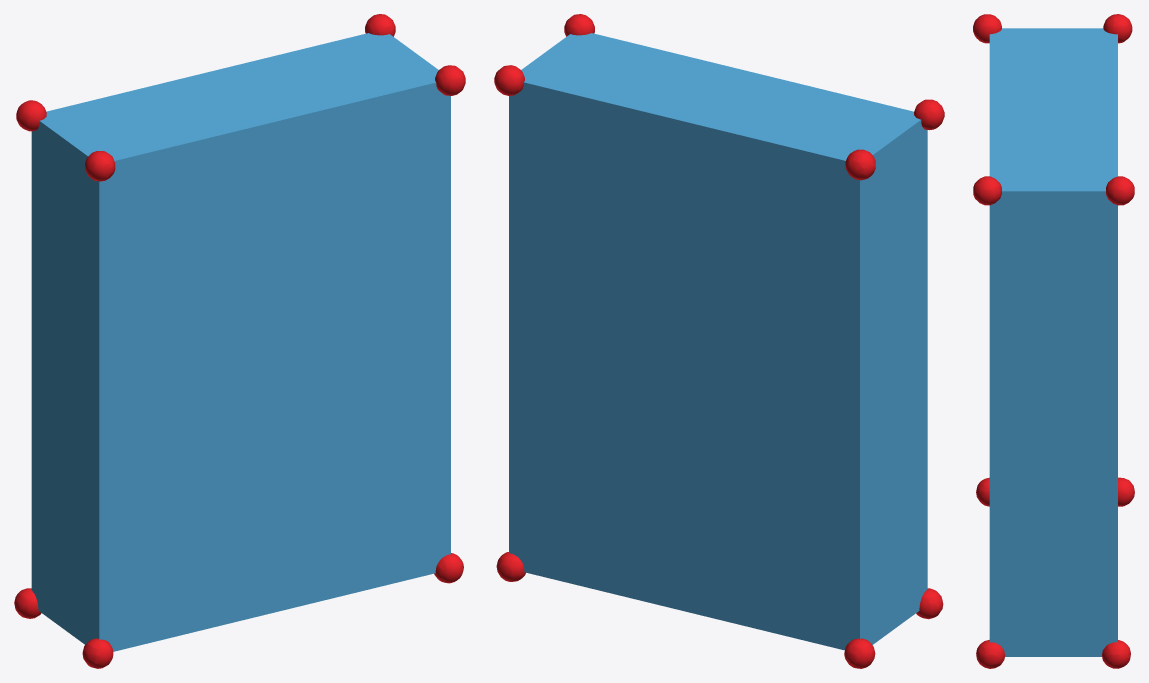
The picture shows the model from 3 angles, left to right: view 1: azimuth 30°, elevation 25°; view 2: azimuth 150°, elevation 25°; view 3: azimuth 270°, elevation 25°; orthographic projection. The views are drawn at different scales.
Parts seen in each view (by area): view 1: 四角柱, 頂點.008; view 2: 四角柱, 頂點.008; view 3: 四角柱, 頂點.008.
Boxes of the visible parts, box(x1,y1,x2,y2) form: 四角柱: box(31, 33, 450, 651); 頂點.008: box(14, 14, 465, 668); 四角柱: box(509, 33, 927, 650); 頂點.008: box(494, 14, 944, 668); 四角柱: box(989, 28, 1117, 656); 頂點.008: box(973, 14, 1134, 668).
Bounding box in the file's own units: 1.49 × 1.95 × 0.5851.
